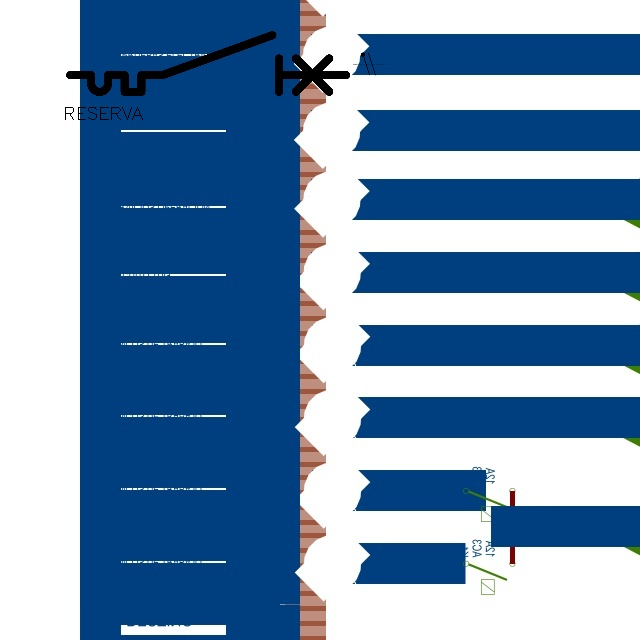interruptor_termomagnetico: (63, 28, 353, 99)
